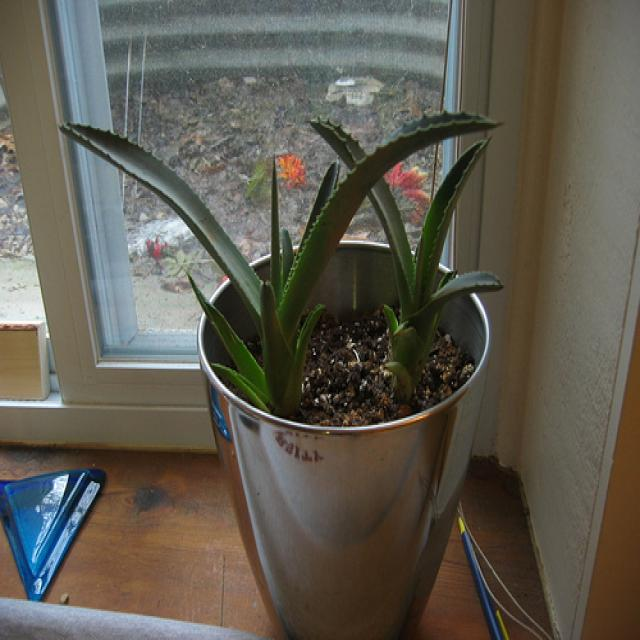pottedplant: (58, 100, 506, 639)
